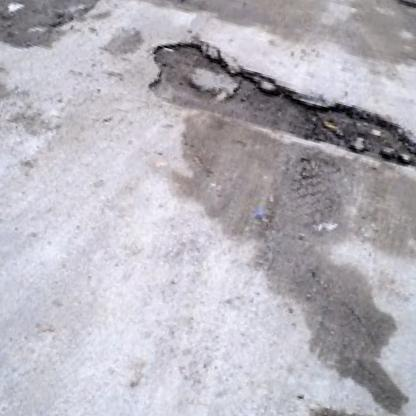pothole: (138, 31, 416, 176), (151, 0, 186, 5)
